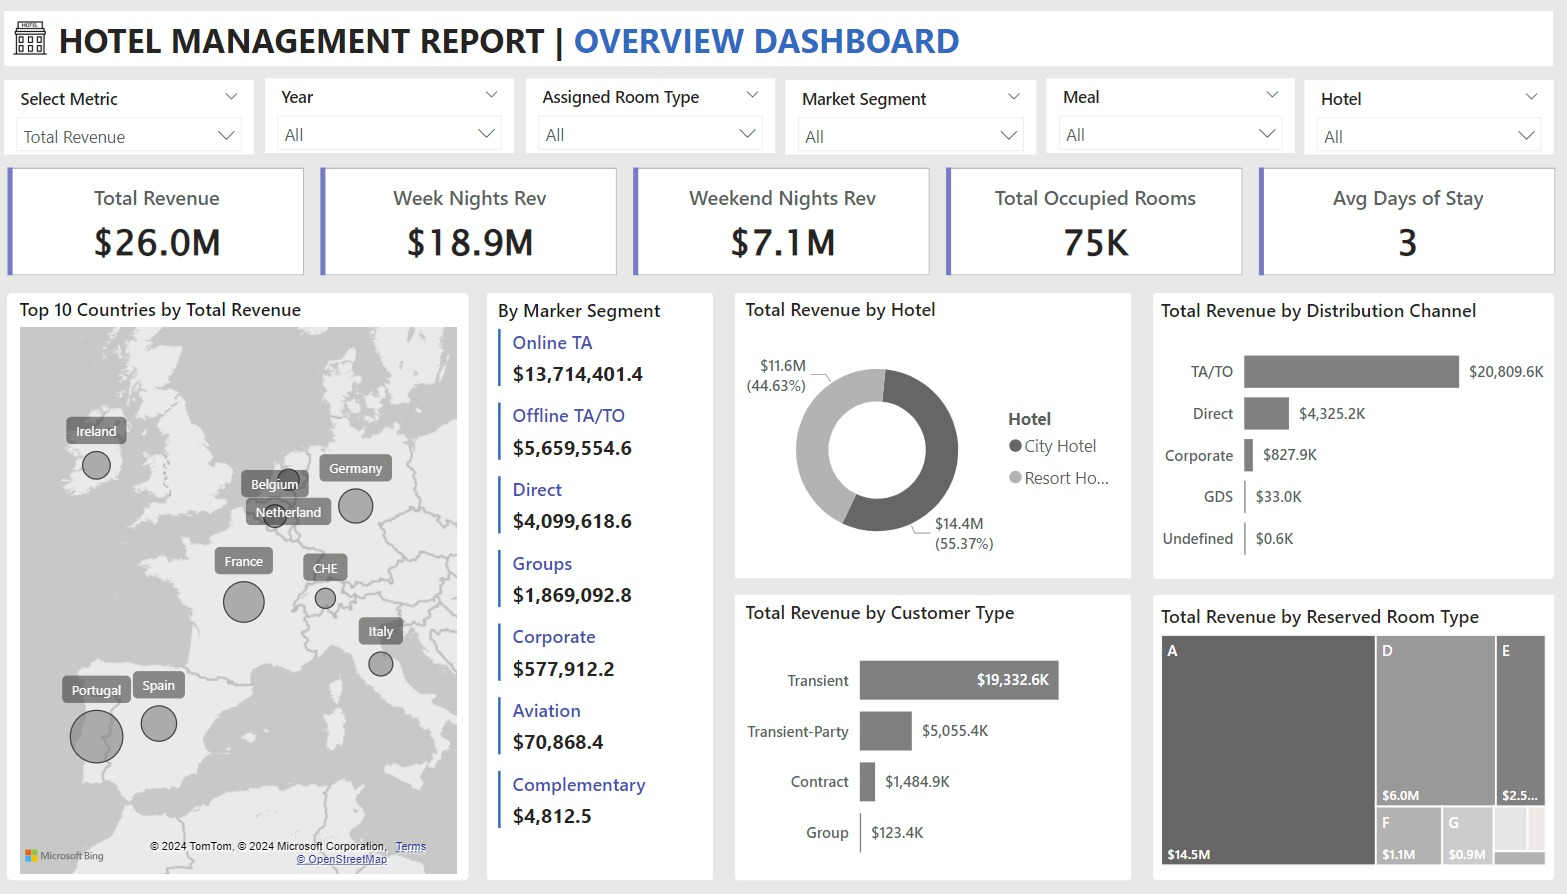

What the dashboard file says about the page in this screenshot:
{"tool":"powerbi","page":{"name":"OVERVIEW DASHBOARD","canvas":[1280,720],"ordinal":1},"visuals":[{"type":"slicer","fields":{"Values":["Date Table.Year"]},"box":[225.2,64.2,200.6,60],"z":0},{"type":"shape","box":[14.5,10,1248,44.7],"z":1000},{"type":"textbox","box":[53.5,9.3,902.3,46.5],"z":2000},{"type":"slicer","fields":{"Values":["hotel data.Assigned Room Type"]},"box":[434.4,64.2,200.6,60],"z":3000},{"type":"slicer","fields":{"Values":["hotel data.Market Segment"]},"box":[644.1,64.7,202,60],"z":4000},{"type":"slicer","fields":{"Values":["hotel data.Meal"]},"box":[854.3,64.2,199.9,60],"z":5000},{"type":"slicer","fields":{"Values":["hotel data.Hotel"]},"box":[1062.7,64.7,200.9,60],"z":6000},{"type":"image","box":[16.7,12.3,36.8,39.1],"z":7000},{"type":"cardVisual","fields":{"Data":["hotel data.Total Revenue","hotel data.Week Nights Rev","hotel data.Weekend Nights Rev","hotel data.Total Occupied Rooms","hotel data.Avg Days of Stay"]},"box":[12,130.5,1261.1,97],"z":10000},{"type":"shape","box":[16.8,237.1,372,473.1],"z":11000},{"type":"map","title":"Top 10 Countries by Total Revenue","fields":{"Category":["hotel data.Country"],"Size":["hotel data.Total Revenue"]},"box":[21.6,239.5,362.9,470.7],"z":12000},{"type":"shape","box":[602.4,237.1,319.8,229.9],"z":13000},{"type":"slicer","fields":{"Values":["Select Metric.Select Metric"]},"box":[14.4,64.7,201.2,59.9],"z":14000},{"type":"shape","box":[602.4,480.2,319.8,229.9],"z":15000},{"type":"shape","box":[403.6,237.1,182,473.1],"z":16000},{"type":"multiRowCard","title":"By Marker Segment","fields":{"Values":["hotel data.Total Revenue","hotel data.Market Segment"]},"box":[407.2,240.7,174.9,473.1],"z":17000},{"type":"barChart","fields":{"Y":["hotel data.Total Revenue"],"Category":["hotel data.Customer Type"]},"box":[606,483.8,313.8,226.3],"z":18000},{"type":"shape","box":[940.1,237.1,323,229.9],"z":19000},{"type":"shape","box":[940.1,480.2,323.4,229.9],"z":20000},{"type":"treemap","fields":{"Values":["hotel data.Total Revenue"],"Group":["hotel data.Reserved Room Type"]},"box":[941.3,487.4,319.8,215.6],"z":21000},{"type":"donutChart","fields":{"Y":["hotel data.Total Revenue"],"Category":["hotel data.Hotel"]},"box":[606,239.5,313.8,227.5],"z":22000},{"type":"barChart","fields":{"Y":["hotel data.Total Revenue"],"Category":["hotel data.Distribution Channel"]},"box":[941.3,240.7,319.8,226.3],"z":23000}]}

Visuals, with their boxes in screenshot pixels (x1, y1, x2, y2), scaled from the page's 1280x720 canvas onto the 1567x894 screenshot:
slicer - Date Table.Year: Rect(276, 80, 521, 154)
shape: Rect(18, 12, 1546, 68)
textbox: Rect(65, 12, 1170, 69)
slicer - hotel data.Assigned Room Type: Rect(532, 80, 777, 154)
slicer - hotel data.Market Segment: Rect(789, 80, 1036, 155)
slicer - hotel data.Meal: Rect(1046, 80, 1291, 154)
slicer - hotel data.Hotel: Rect(1301, 80, 1547, 155)
image: Rect(20, 15, 65, 64)
cardVisual - hotel data.Total Revenue x hotel data.Week Nights Rev: Rect(15, 162, 1559, 282)
shape: Rect(21, 294, 476, 882)
"Top 10 Countries by Total Revenue" map: Rect(26, 297, 471, 882)
shape: Rect(737, 294, 1129, 580)
slicer - Select Metric.Select Metric: Rect(18, 80, 264, 155)
shape: Rect(737, 596, 1129, 882)
shape: Rect(494, 294, 717, 882)
"By Marker Segment" multiRowCard: Rect(499, 299, 713, 886)
barChart - hotel data.Total Revenue x hotel data.Customer Type: Rect(742, 601, 1126, 882)
shape: Rect(1151, 294, 1546, 580)
shape: Rect(1151, 596, 1547, 882)
treemap - hotel data.Total Revenue x hotel data.Reserved Room Type: Rect(1152, 605, 1544, 873)
donutChart - hotel data.Total Revenue x hotel data.Hotel: Rect(742, 297, 1126, 580)
barChart - hotel data.Total Revenue x hotel data.Distribution Channel: Rect(1152, 299, 1544, 580)
